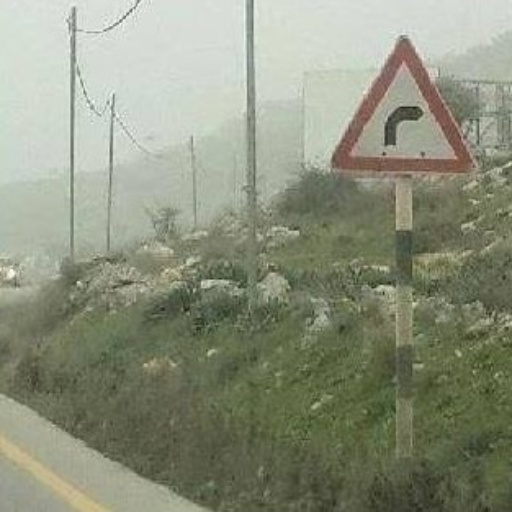Turn right: (320, 29, 481, 184)
